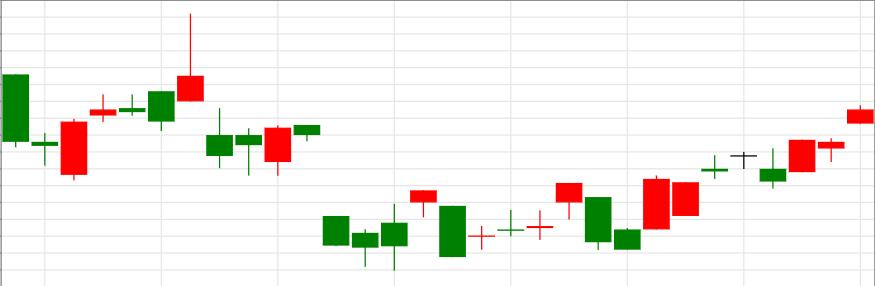shooting_star_fall: (60, 14, 204, 180)
